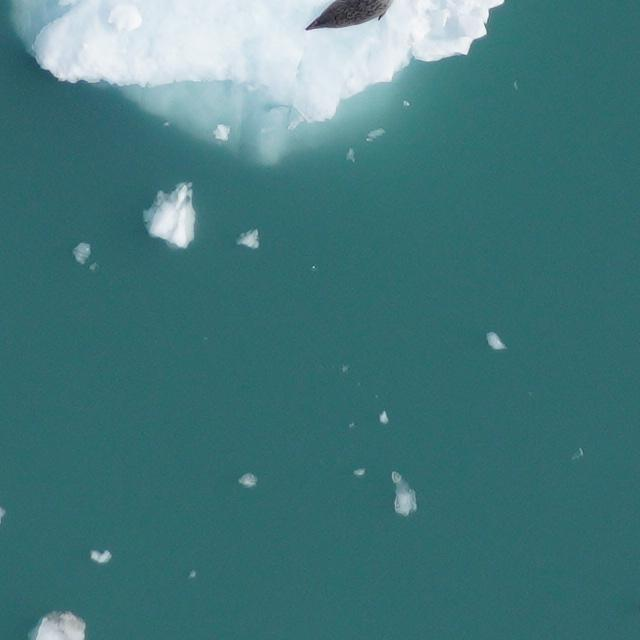seal: (304, 0, 392, 31)
